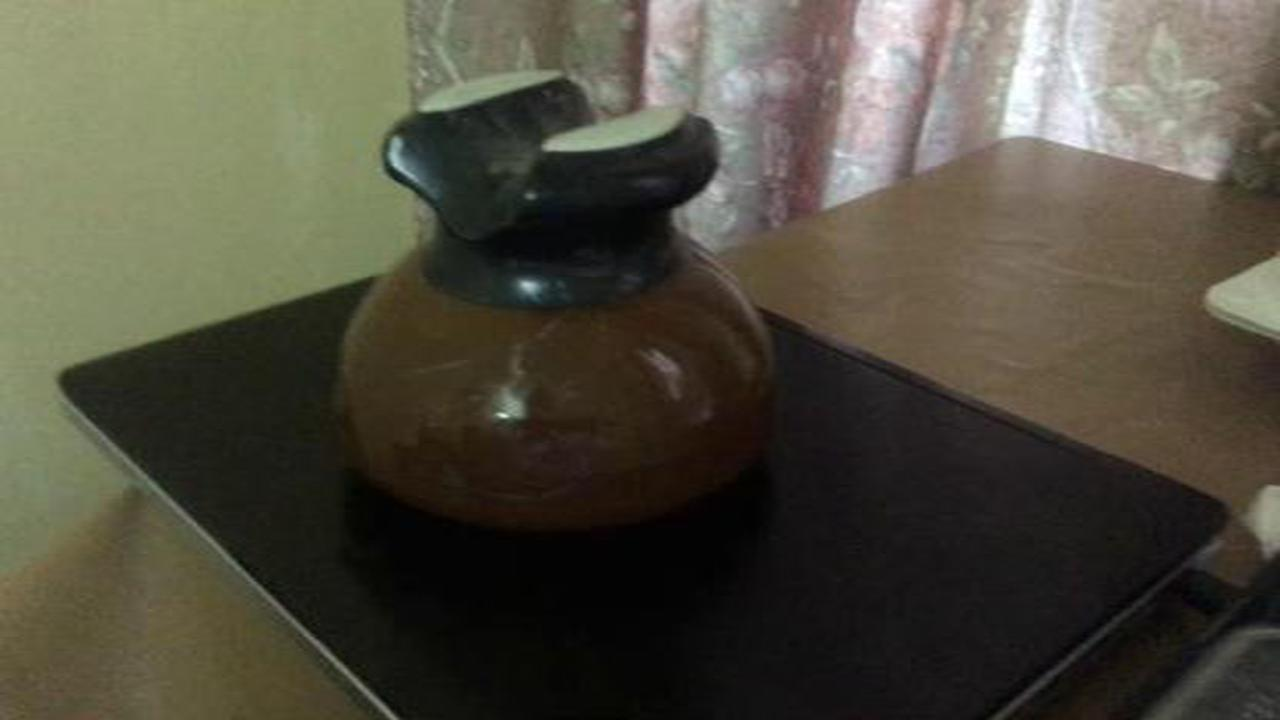insulator_pin: (320, 51, 810, 535)
